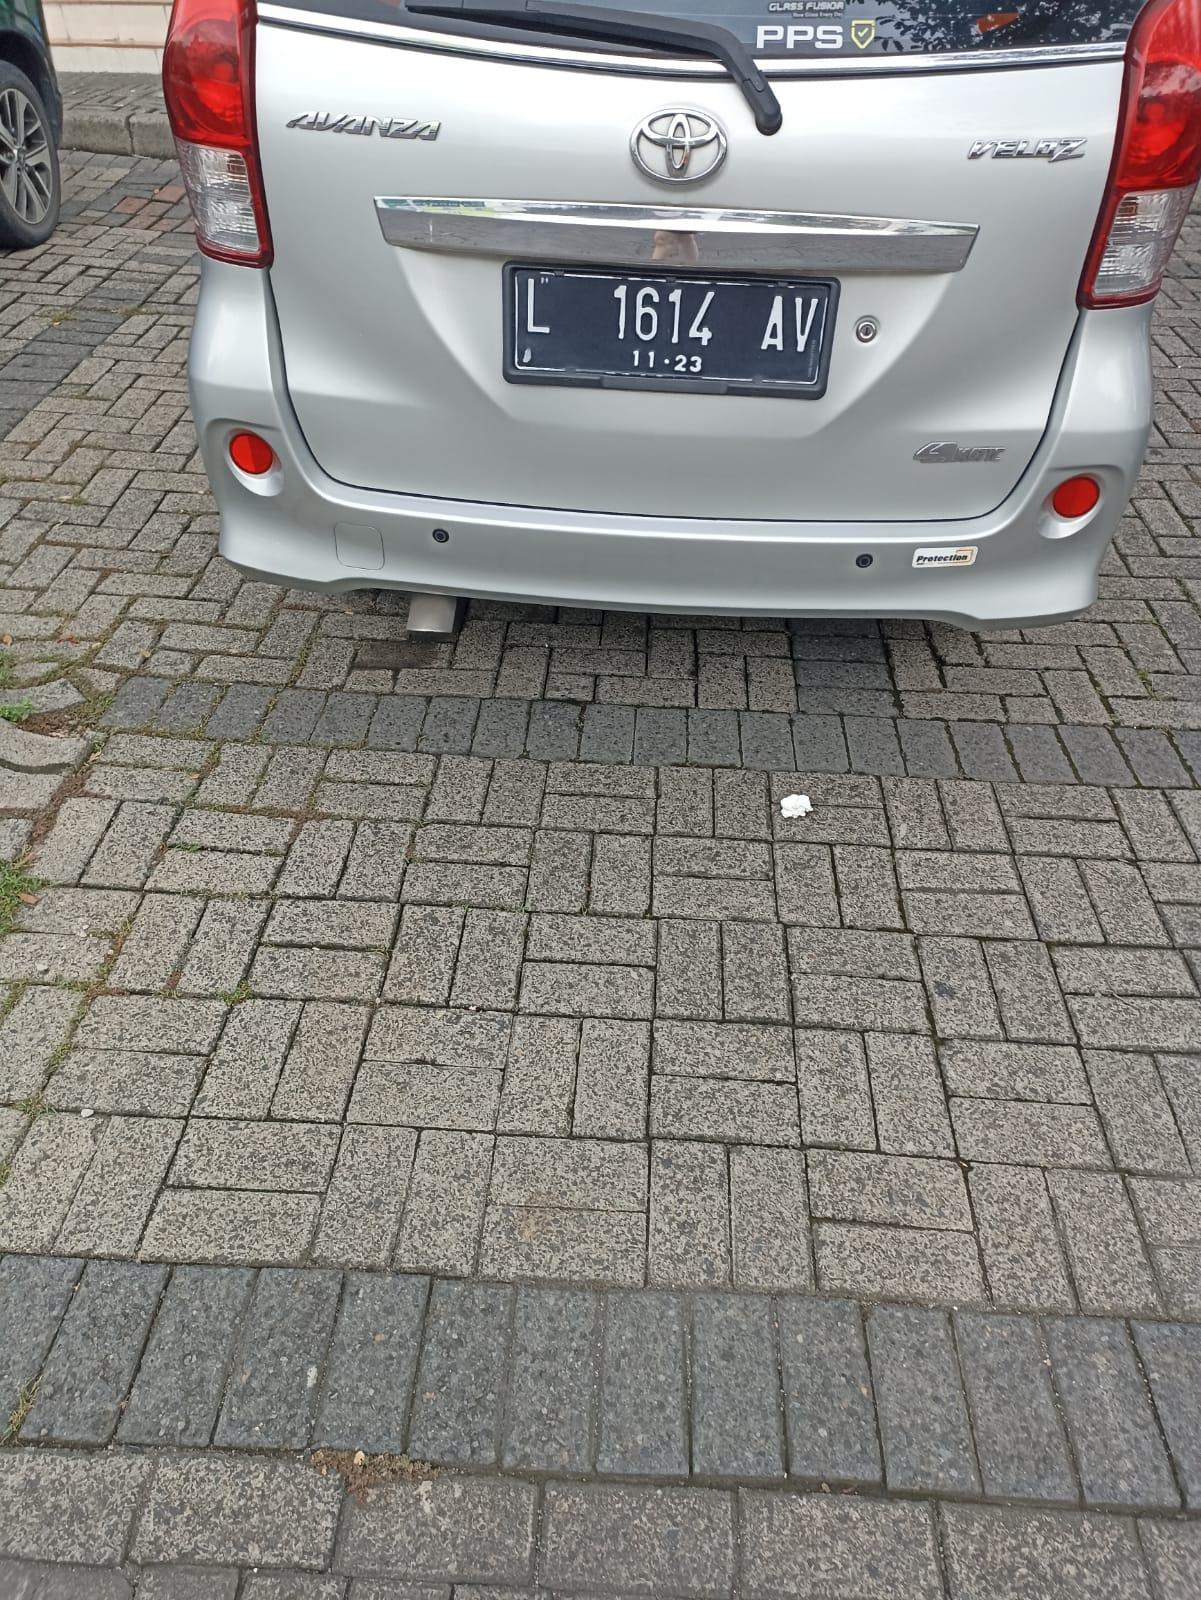plat: (503, 268, 838, 400)
